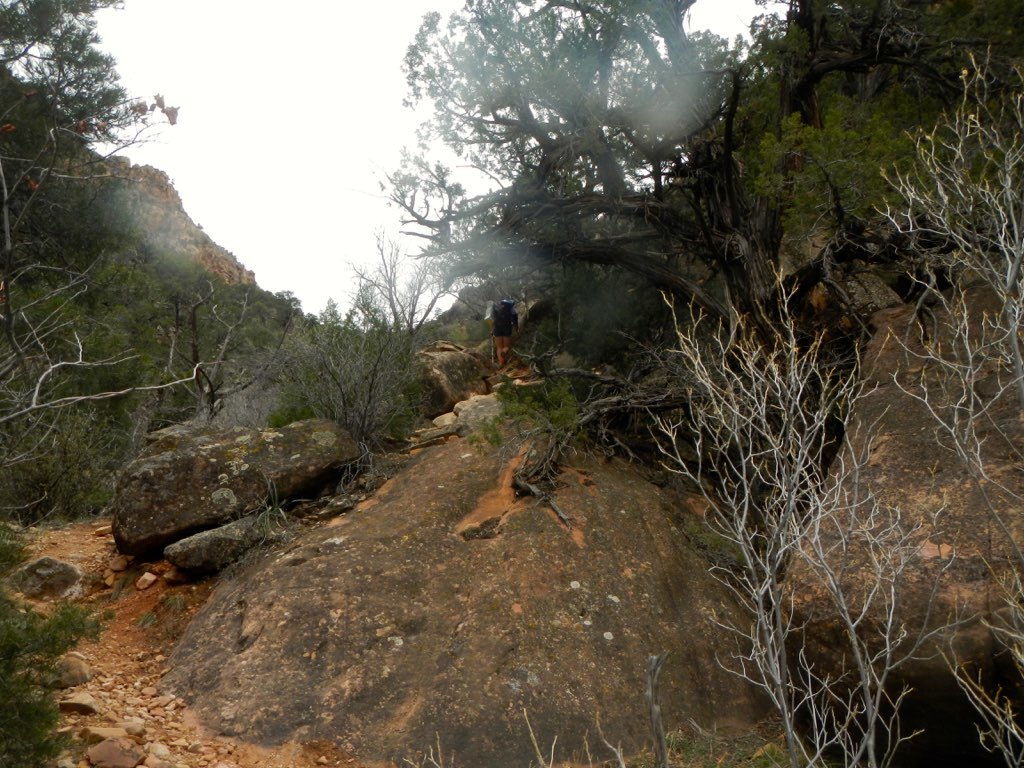Tree: (0, 0, 1022, 767)
